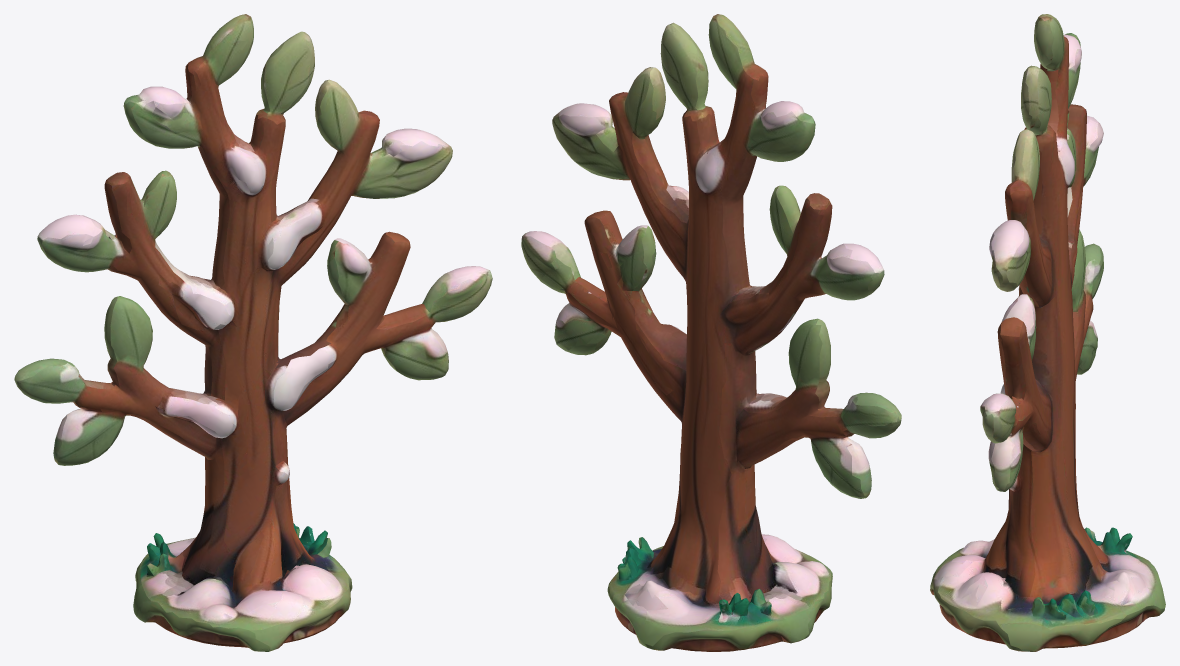
File: tree_winter.glb
3 renders of one model, left to right at view 1: azimuth 30°, elevation 25°; view 2: azimuth 150°, elevation 25°; view 3: azimuth 270°, elevation 25°, orthographic.
Parts seen in each view (by area): view 1: tree_winter_s15; view 2: tree_winter_s15; view 3: tree_winter_s15.
Part boxes in pixels (left/top/right/bottom): tree_winter_s15: left=14, top=14, right=492, bottom=651; tree_winter_s15: left=521, top=14, right=901, bottom=651; tree_winter_s15: left=930, top=14, right=1165, bottom=651.
Bounding box in the file's own units: 0.7566 × 1 × 0.3614.
Materials: 1 (1 with a texture image).
